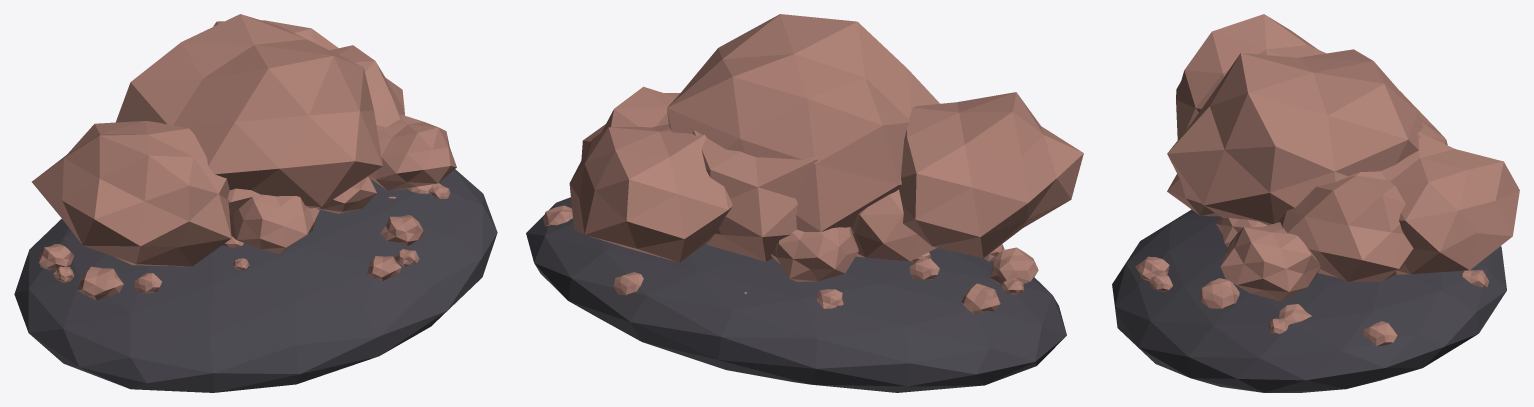
Rendered from germanite.glb.
3 renders of one model, left to right at view 1: azimuth 30°, elevation 25°; view 2: azimuth 150°, elevation 25°; view 3: azimuth 270°, elevation 25°, orthographic. The views are drawn at different scales.
Visible parts, largest first — view 1: Germanite; view 2: Germanite; view 3: Germanite.
Boxes of the visible parts, bbox=[...] form: Germanite: bbox=[14, 14, 497, 392]; Germanite: bbox=[526, 14, 1083, 392]; Germanite: bbox=[1112, 14, 1519, 392].
Size of the model in its own units: 3.96 by 2.38 by 3.13.
